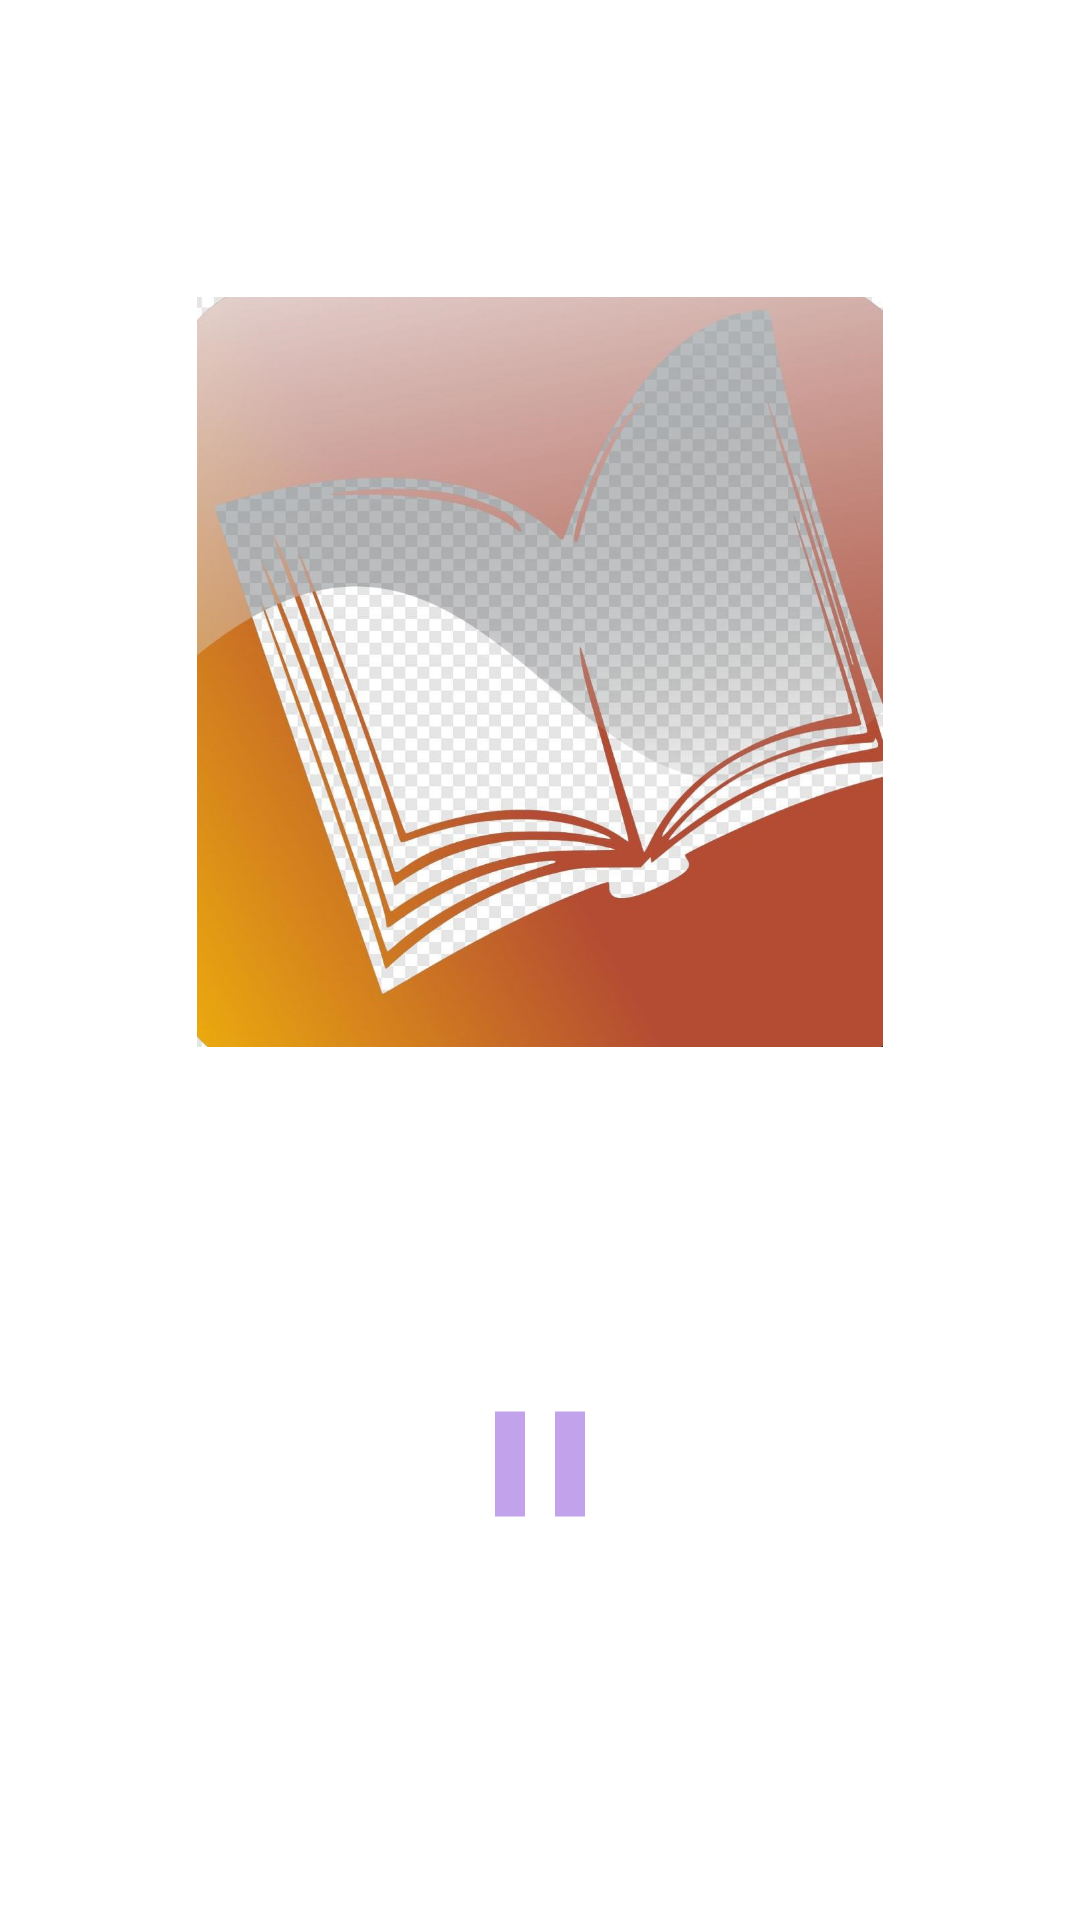

Locate icon controls on the screen. Image size 1080px×1920px, boxes as (x1, y1, x2, y2).
pause: (495, 1411, 585, 1517)
